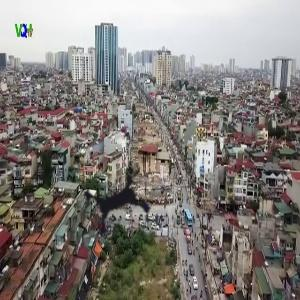drone: (51, 144, 184, 277)
